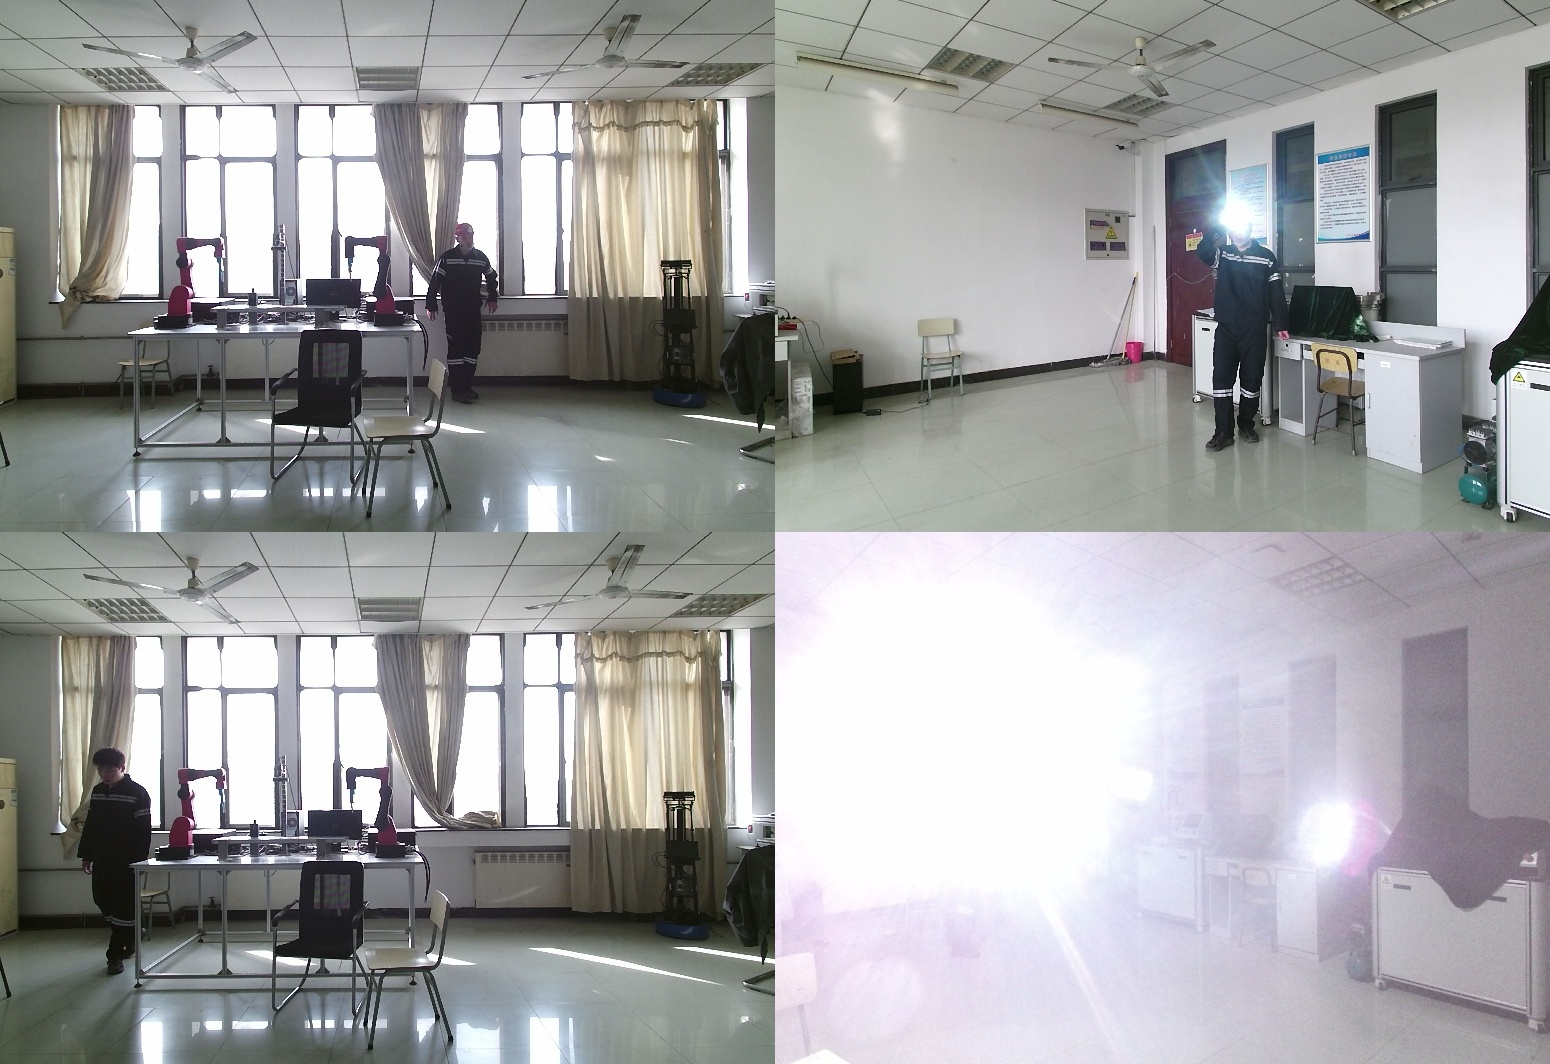person: (1197, 205, 1297, 451), (919, 752, 999, 975), (77, 748, 151, 975), (427, 225, 502, 413)
